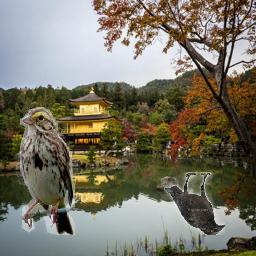Crow: (165, 173, 226, 236)
Sparrow: (21, 107, 76, 235)
